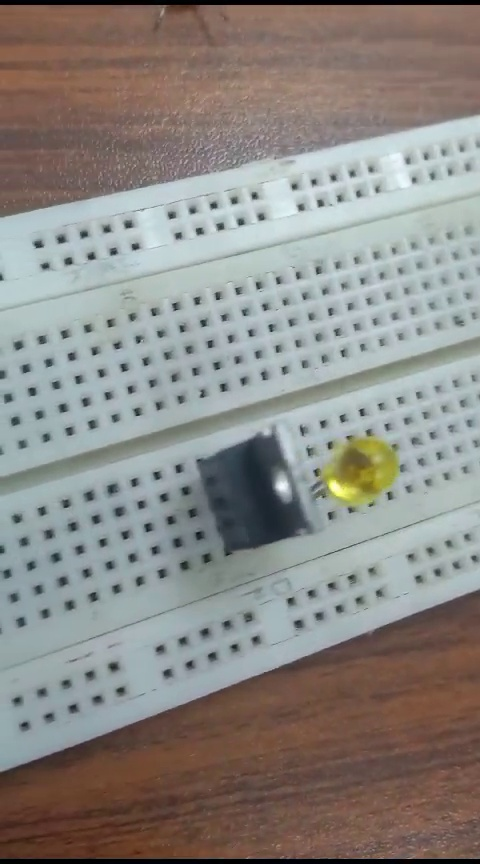LED: (324, 440, 396, 513)
voltage regulator: (187, 429, 311, 553)
